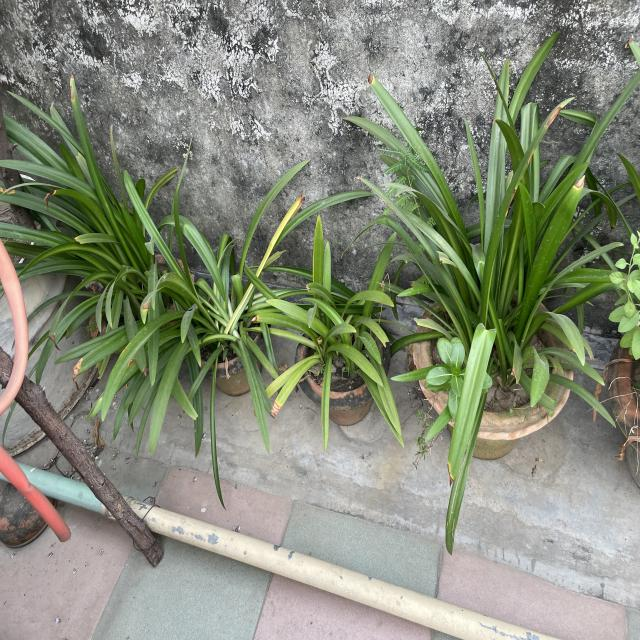Breeding Place: (414, 302, 576, 454), (178, 261, 272, 399), (296, 294, 385, 428)
